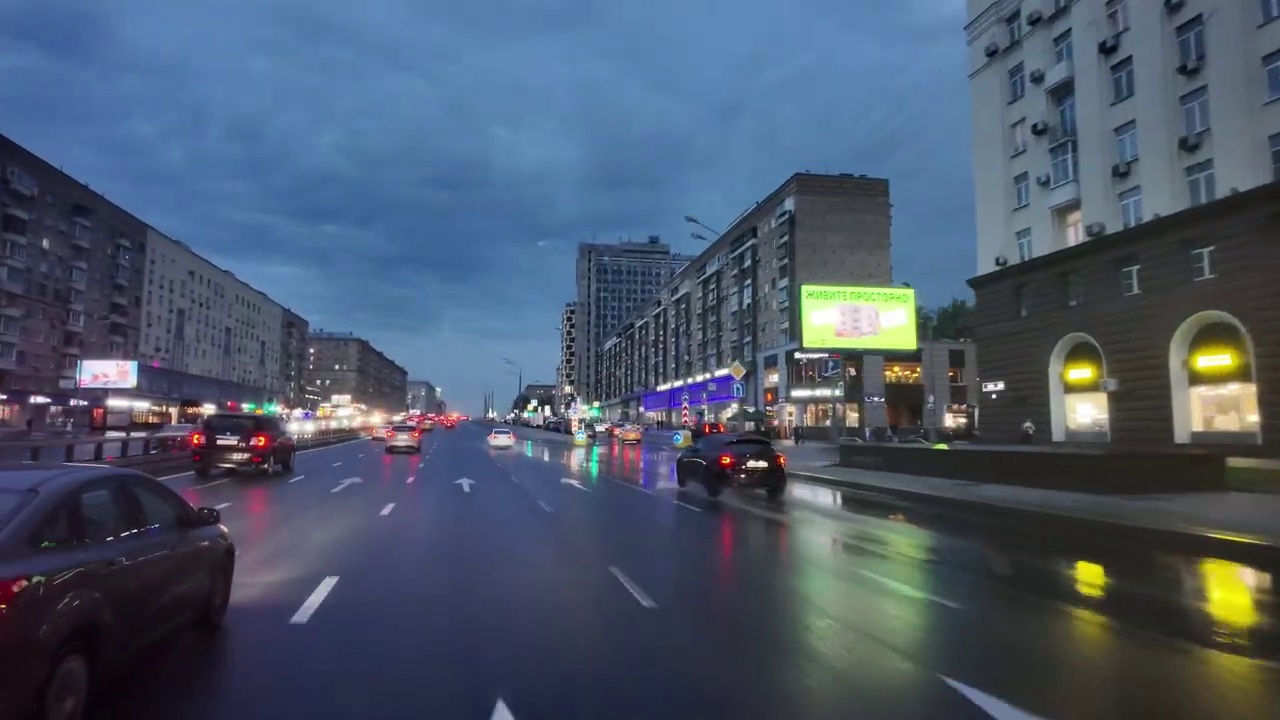apagada: (678, 207, 715, 244)
